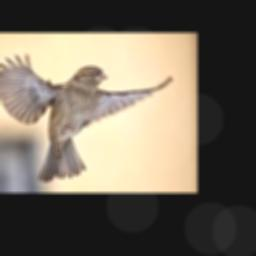Sparrow: (0, 53, 172, 182)
